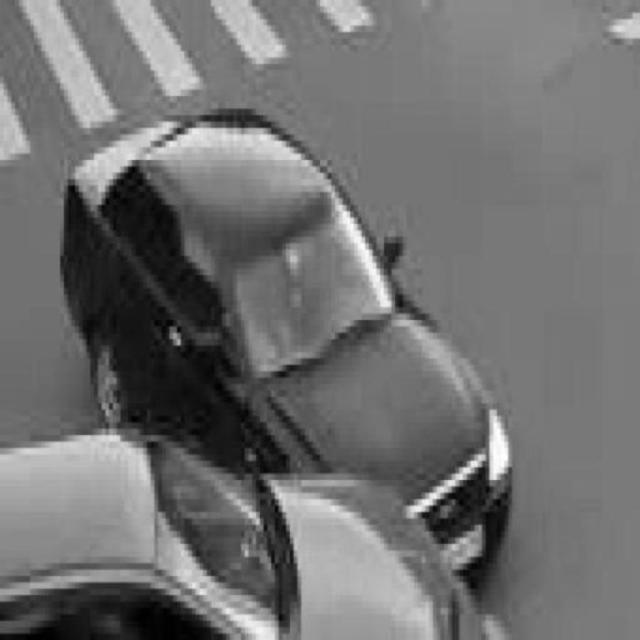accident: (12, 113, 520, 639)
